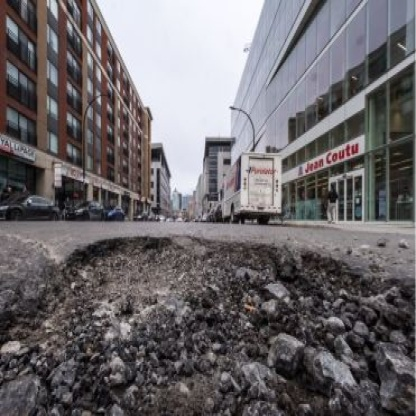pothole: (1, 220, 416, 414)
